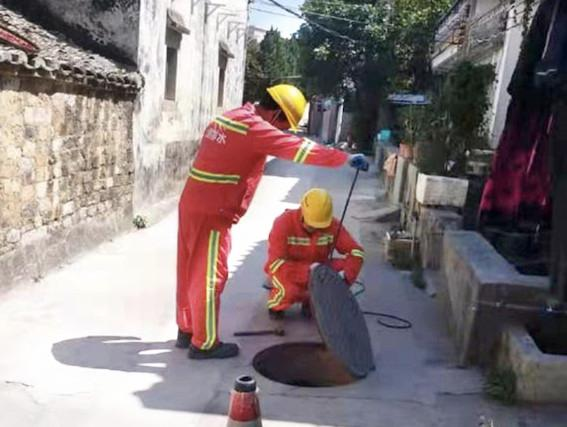uncovered: (246, 267, 391, 396)
